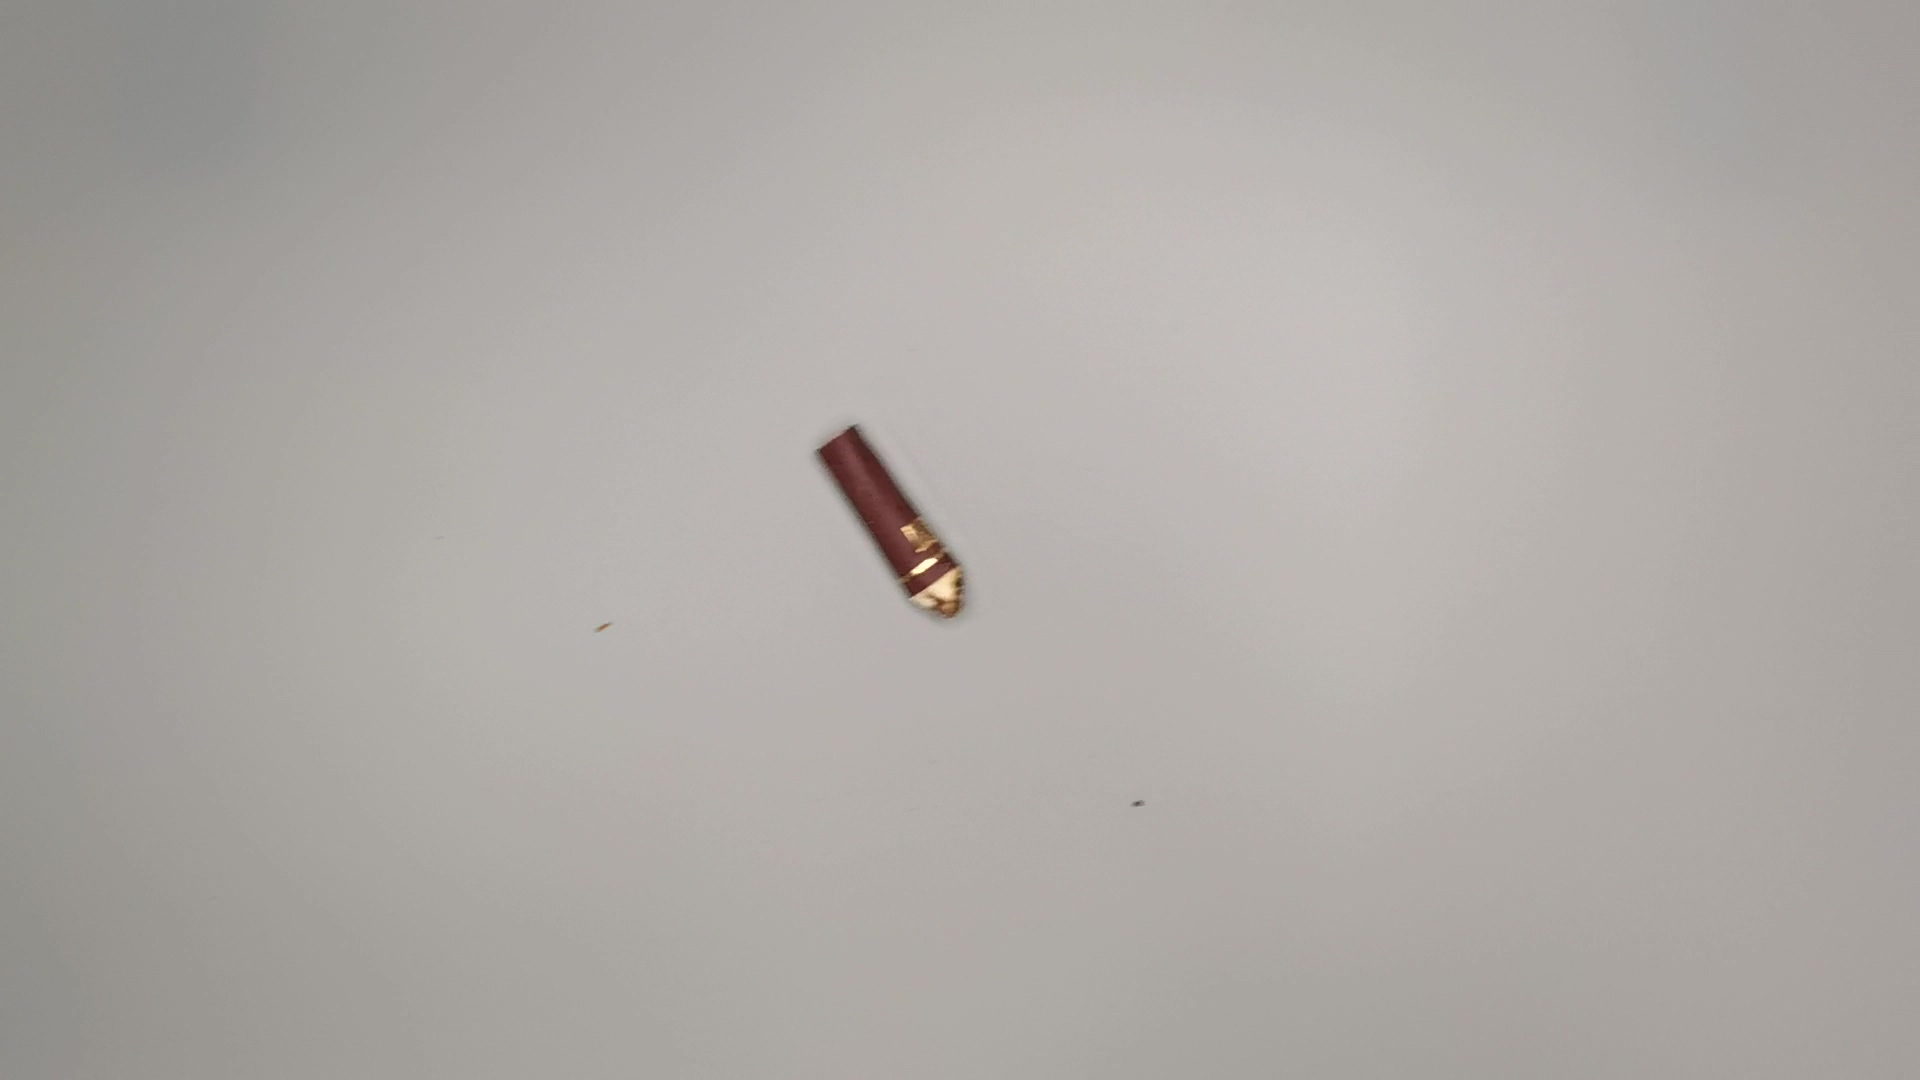cigarette: (806, 426, 981, 632)
